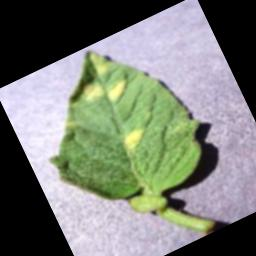Leaf_Mold: (117, 124, 151, 155), (104, 76, 135, 105), (79, 76, 108, 102)
